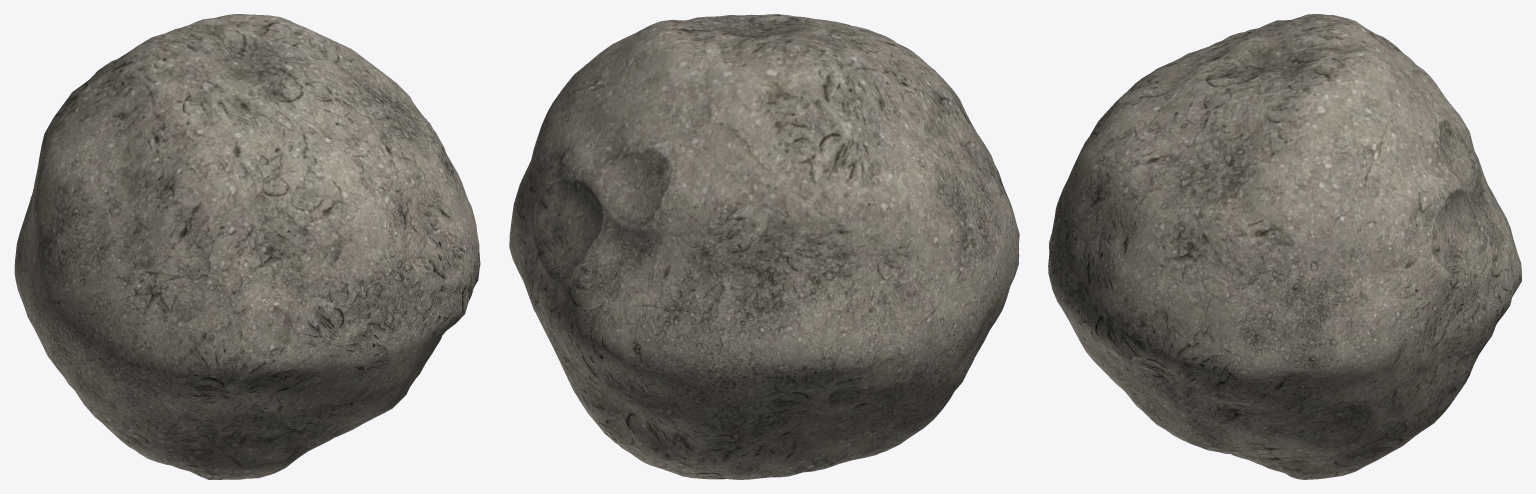
Rendered from didymos.glb.
The picture shows the model from 3 angles, left to right: view 1: azimuth 30°, elevation 25°; view 2: azimuth 150°, elevation 25°; view 3: azimuth 270°, elevation 25°; orthographic projection. The views are drawn at different scales.
Visible parts, largest first — view 1: DidymosA; view 2: DidymosA; view 3: DidymosA.
Boxes of the visible parts, x1,y1,x2,y2 form: DidymosA: (14, 14, 480, 479); DidymosA: (509, 14, 1019, 479); DidymosA: (1048, 14, 1521, 479).
Bounding box in the file's own units: 2.12 × 2 × 2.13.
1 material, 1 textured.
